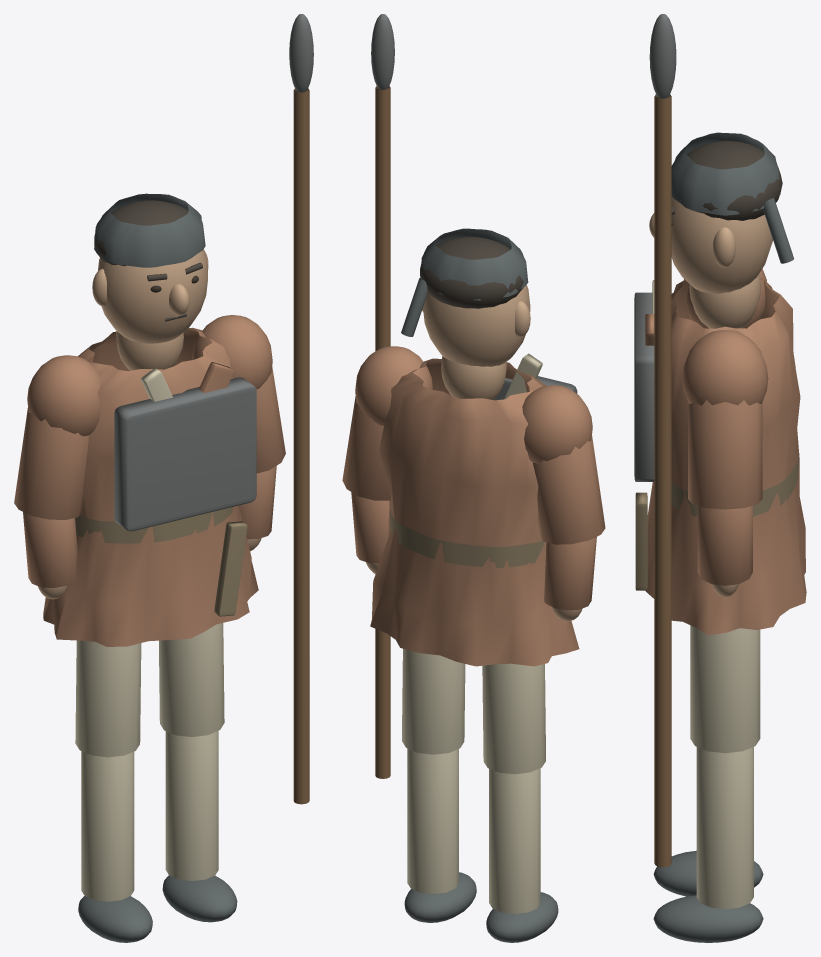
Rendered from guard.glb.
3 renders of one model, left to right at view 1: azimuth 30°, elevation 25°; view 2: azimuth 150°, elevation 25°; view 3: azimuth 270°, elevation 25°, orthographic. The views are drawn at different scales.
Parts seen in each view (by area): view 1: Cross-collar working coat.006, Lamellar breastplate, Spear, shin.012, shin.013, thigh.012, thigh.013, Face.006, upper.012, Soft cloth cap.004, Shoulder.012, fore.012 (+12 smaller); view 2: Cross-collar working coat.006, shin.012, shin.013, thigh.012, Spear, thigh.013, upper.012, Face.006, Shoulder.012, Soft cloth cap.004, Hair crown.006, Shoulder.013 (+10 smaller); view 3: Cross-collar working coat.006, Spear, shin.013, thigh.013, upper.013, Face.006, Shoulder.013, Soft cloth cap.004, fore.013, Cloth shoe.013, Lamellar breastplate, Hair crown.006 (+8 smaller).
Part boxes in pixels (box(x1,y1,x2,y2)): Cross-collar working coat.006: box(43, 327, 258, 646); Lamellar breastplate: box(114, 377, 256, 531); Spear: box(293, 88, 309, 804); shin.012: box(81, 751, 134, 901); shin.013: box(165, 731, 218, 880); thigh.012: box(75, 640, 141, 757); thigh.013: box(159, 623, 224, 736); Face.006: box(97, 249, 207, 343); upper.012: box(14, 407, 88, 519); Soft cloth cap.004: box(94, 193, 205, 267); Shoulder.012: box(27, 355, 100, 436); fore.012: box(23, 512, 77, 587); Cross-collar working coat.006: box(370, 358, 579, 666); shin.012: box(489, 768, 540, 913); shin.013: box(407, 748, 458, 893); thigh.012: box(482, 663, 545, 774); Spear: box(375, 86, 390, 778); thigh.013: box(402, 648, 465, 754); upper.012: box(533, 436, 605, 544); Face.006: box(423, 284, 530, 366); Shoulder.012: box(522, 385, 592, 463); Soft cloth cap.004: box(421, 228, 528, 300); Hair crown.006: box(420, 236, 523, 308); Shoulder.013: box(355, 346, 432, 425); Cross-collar working coat.006: box(645, 277, 806, 635); Spear: box(654, 94, 671, 867); shin.013: box(696, 747, 753, 909); thigh.013: box(690, 625, 760, 753); upper.013: box(688, 400, 762, 509); Face.006: box(671, 196, 772, 293); Shoulder.013: box(682, 330, 768, 405); Soft cloth cap.004: box(671, 132, 780, 215); fore.013: box(697, 506, 752, 585); Cloth shoe.013: box(653, 895, 763, 942); Lamellar breastplate: box(634, 292, 654, 481); Hair crown.006: box(687, 140, 782, 220).
Size of the model in its own units: 0.6901 by 2.23 by 0.36.
